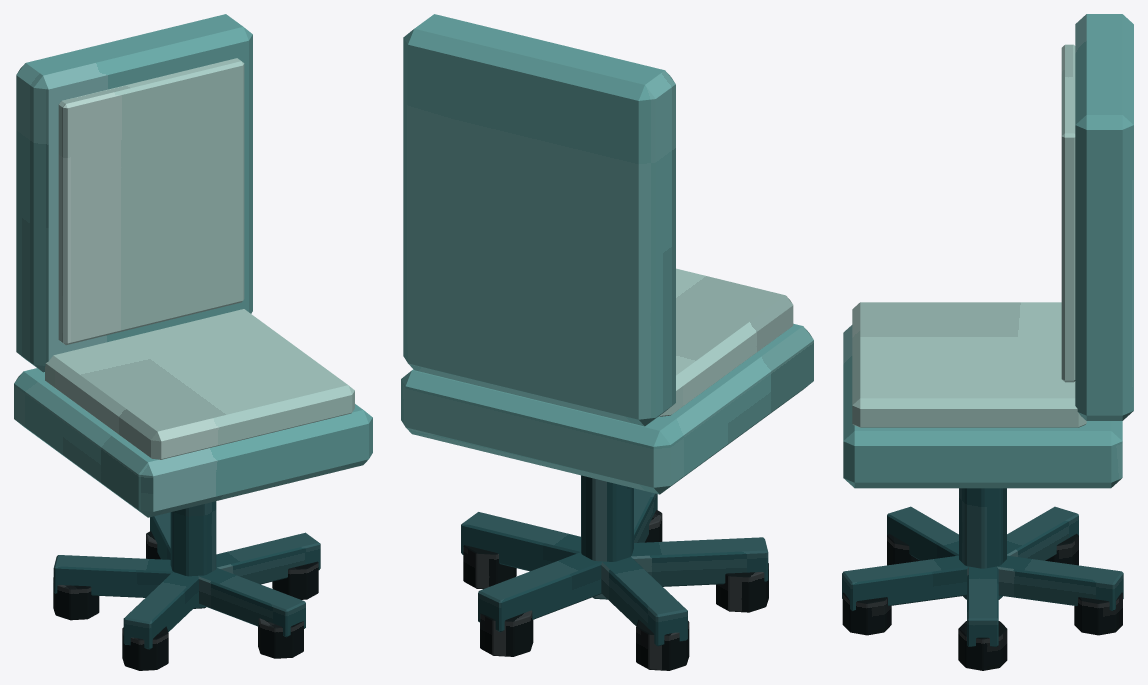
Rendered from office_task_chair_teal.glb.
The picture shows the model from 3 angles, left to right: view 1: azimuth 30°, elevation 25°; view 2: azimuth 150°, elevation 25°; view 3: azimuth 270°, elevation 25°; orthographic projection. The views are drawn at different scales.
Visible parts, largest first — view 1: BackInset, SeatCushion, Back, Seat, CasterArm_2, CasterArm_4, CasterArm_0, CasterArm_3, Stem, Caster_4, Caster_3, Caster_2 (+2 smaller); view 2: Back, Seat, SeatCushion, CasterArm_1, CasterArm_3, CasterArm_0, CasterArm_2, Stem, Caster_1, Caster_2, Caster_3, Caster_0 (+1 smaller); view 3: SeatCushion, Back, Seat, BackInset, CasterArm_1, CasterArm_4, Stem, CasterArm_2, CasterArm_3, CasterArm_0, Caster_0, Caster_4 (+3 smaller).
Boxes of the visible parts, left/top/right/bottom form: BackInset: left=58, top=58, right=244, bottom=345; SeatCushion: left=45, top=309, right=354, bottom=459; Back: left=16, top=14, right=252, bottom=372; Seat: left=14, top=368, right=372, bottom=517; CasterArm_2: left=53, top=555, right=173, bottom=597; CasterArm_4: left=198, top=567, right=305, bottom=637; CasterArm_0: left=216, top=532, right=320, bottom=584; CasterArm_3: left=123, top=572, right=198, bottom=649; Stem: left=170, top=501, right=216, bottom=608; Caster_4: left=258, top=618, right=303, bottom=658; Caster_3: left=122, top=626, right=168, bottom=670; Caster_2: left=53, top=577, right=99, bottom=620; Back: left=403, top=14, right=675, bottom=426; Seat: left=401, top=323, right=813, bottom=494; SeatCushion: left=659, top=268, right=793, bottom=416; CasterArm_1: left=478, top=552, right=601, bottom=632; CasterArm_3: left=631, top=537, right=768, bottom=586; CasterArm_0: left=461, top=512, right=580, bottom=571; CasterArm_2: left=601, top=556, right=687, bottom=646; Stem: left=581, top=475, right=633, bottom=599; Caster_1: left=480, top=610, right=533, bottom=656; Caster_2: left=636, top=620, right=689, bottom=670; Caster_3: left=716, top=563, right=768, bottom=612; Caster_0: left=463, top=545, right=516, bottom=589; SeatCushion: left=852, top=302, right=1086, bottom=427; Back: left=1075, top=14, right=1133, bottom=420; Seat: left=843, top=325, right=1122, bottom=488; BackInset: left=1061, top=44, right=1075, bottom=382; CasterArm_1: left=997, top=555, right=1123, bottom=610; CasterArm_4: left=842, top=555, right=968, bottom=610; Stem: left=959, top=488, right=1006, bottom=599; CasterArm_2: left=1007, top=506, right=1078, bottom=560; CasterArm_3: left=887, top=506, right=958, bottom=560; CasterArm_0: left=967, top=566, right=998, bottom=646; Caster_0: left=958, top=621, right=1007, bottom=670; Caster_4: left=842, top=592, right=891, bottom=635.
Size of the model in its own units: 0.6342 by 1.33 by 0.6475.
1 material, 1 textured.
